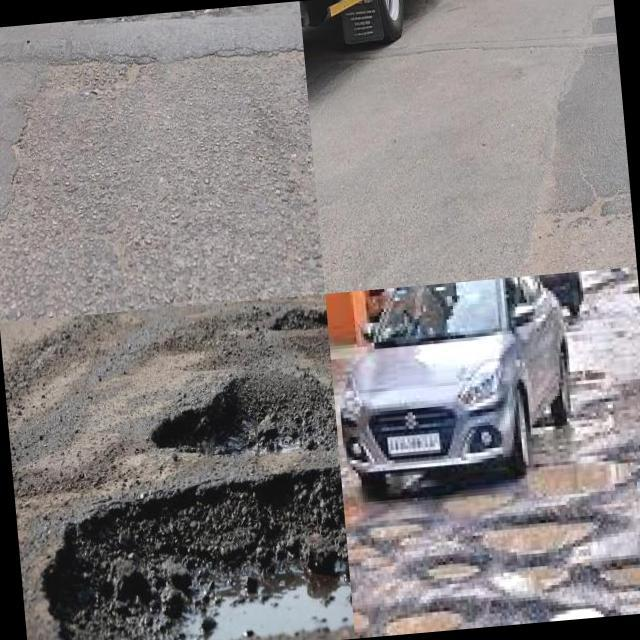Pothole: (39, 466, 354, 640), (155, 371, 338, 458), (483, 522, 594, 555), (540, 461, 628, 490), (387, 611, 460, 635), (276, 304, 328, 336), (612, 554, 640, 591)
